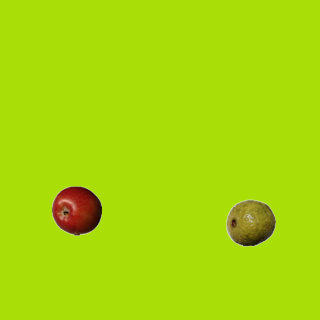Apple Braeburn: (51, 185, 101, 235)
Guava: (225, 197, 275, 247)
